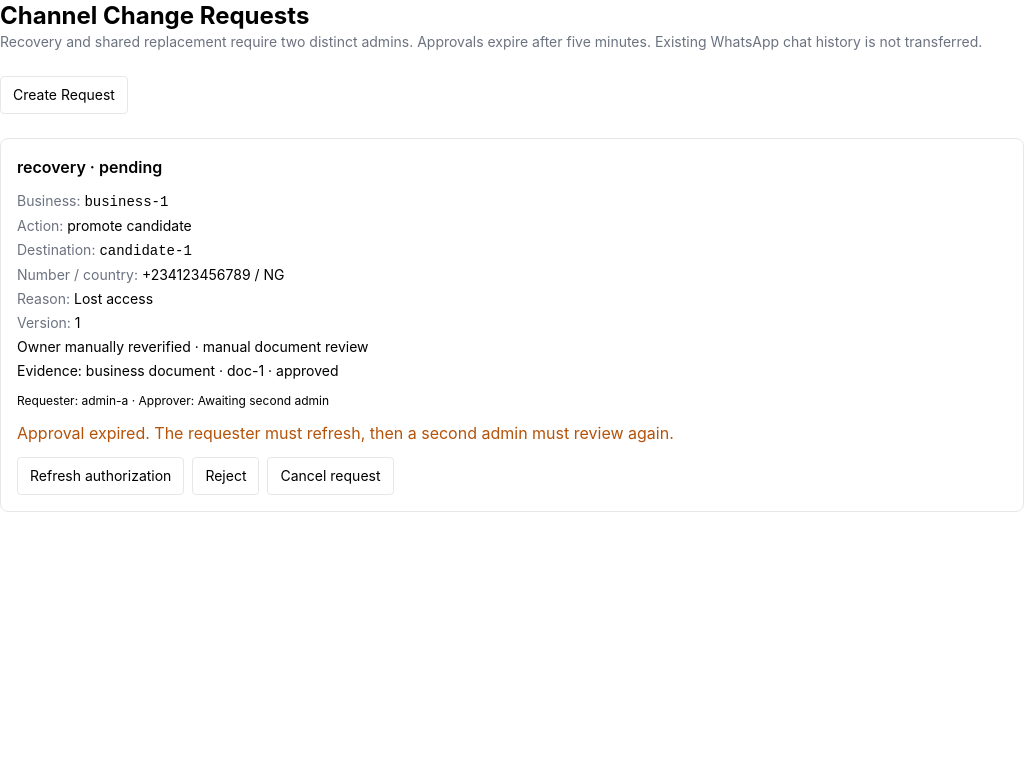
Test case: channel changes mounted UI and actual step-up hook › requester can refresh expired approval and sees second-review requirement
Click the button "Refresh authorization" at (101, 476), box [17, 457, 184, 495]
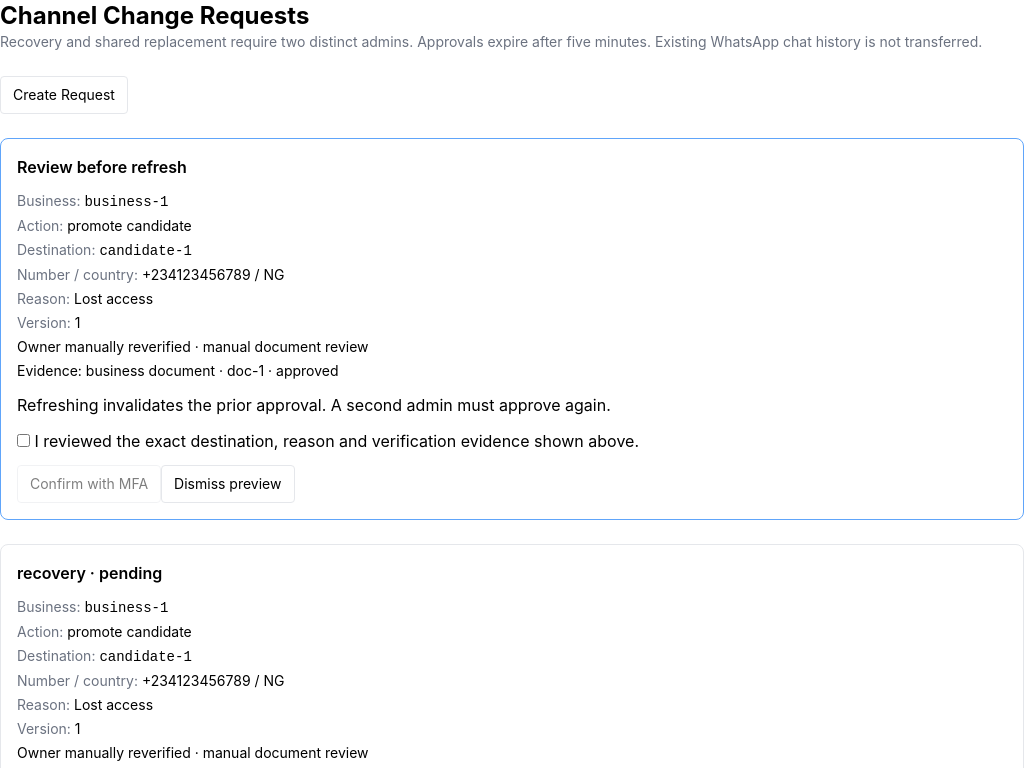
Expected: the text "candidate-1" below "Review before" is shown, [99, 243, 192, 259]
Expected: the button "Confirm with MFA" is disabled, [17, 465, 161, 503]
Click the checkbox at (24, 440), box [17, 434, 30, 447]
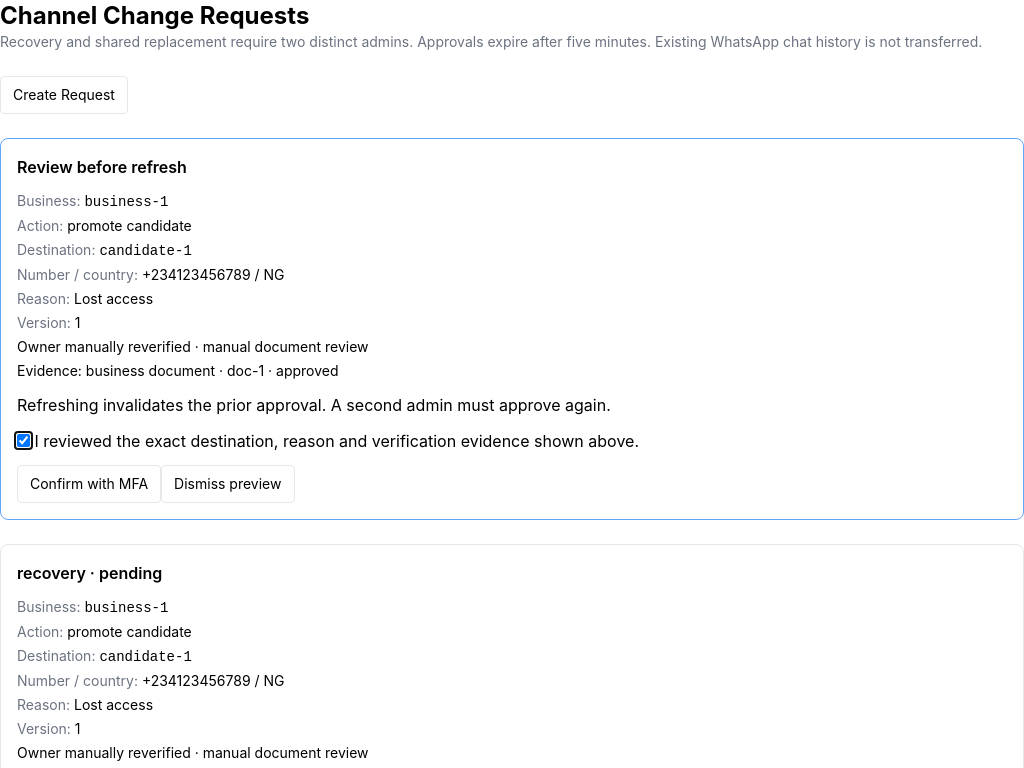
Click the button "Confirm with MFA" at (89, 484), box [17, 465, 161, 503]
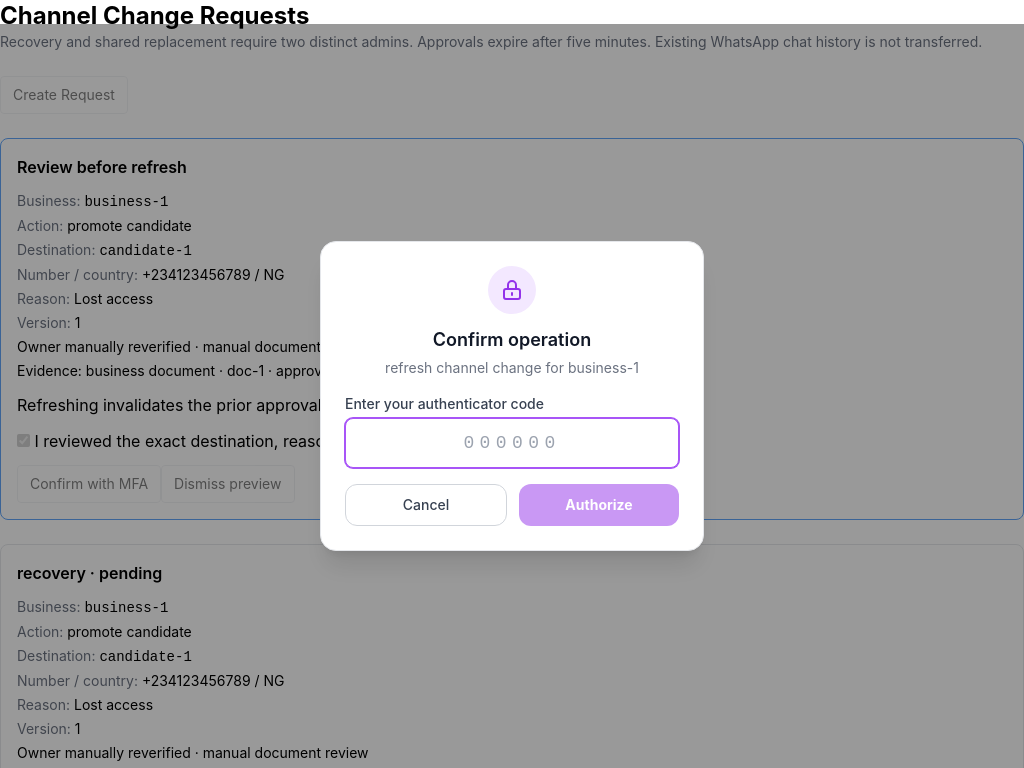
Expected: the field with placeholder "000000" is shown
Type "123456" into the field with placeholder "000000" at (512, 443), box [345, 418, 679, 468]
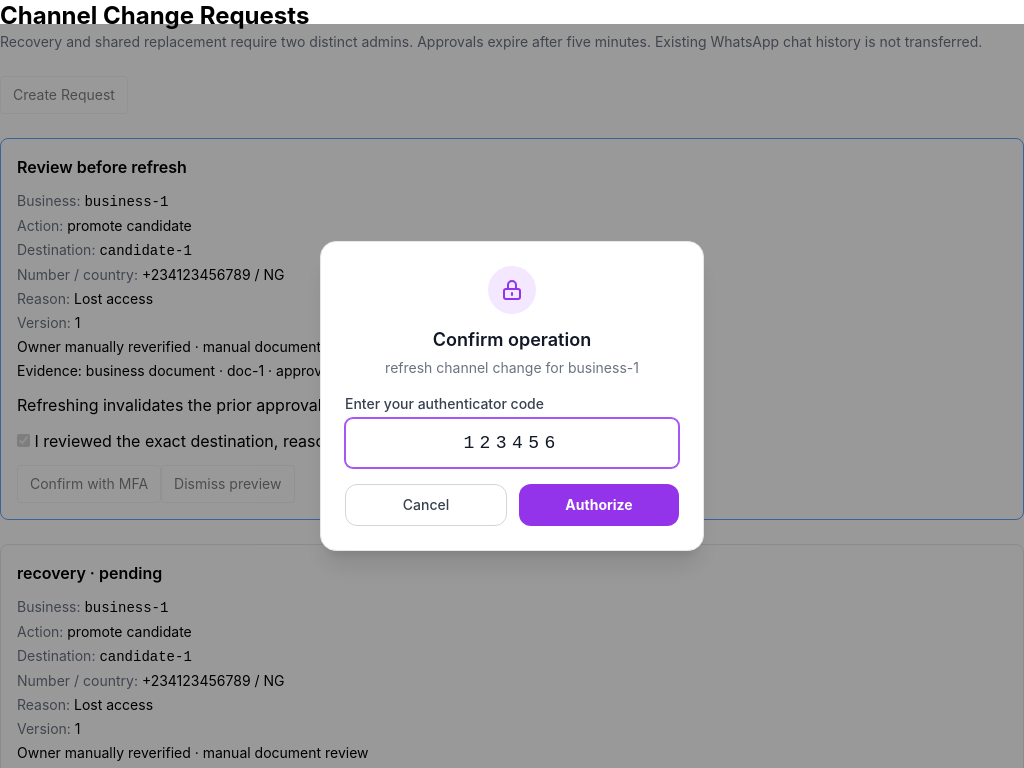
Click the button "Authorize" at (599, 505), box [519, 484, 679, 526]
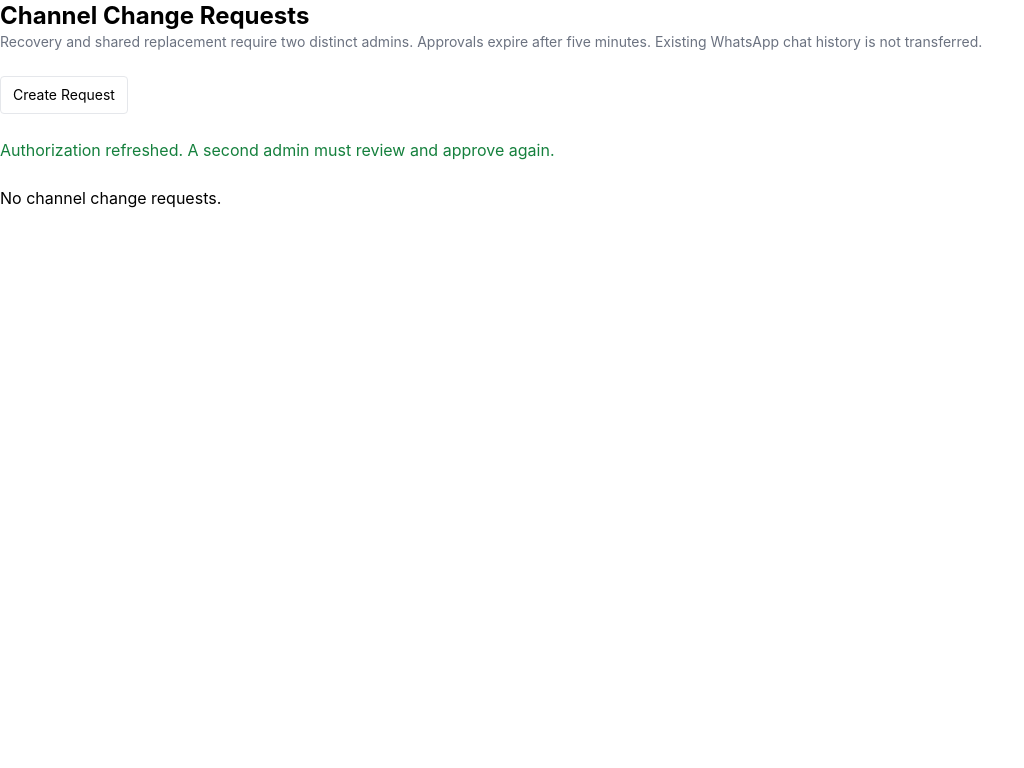
Expected: the text "Authorization refreshed. A second admin must review and approve again." is shown, [0, 140, 554, 160]
